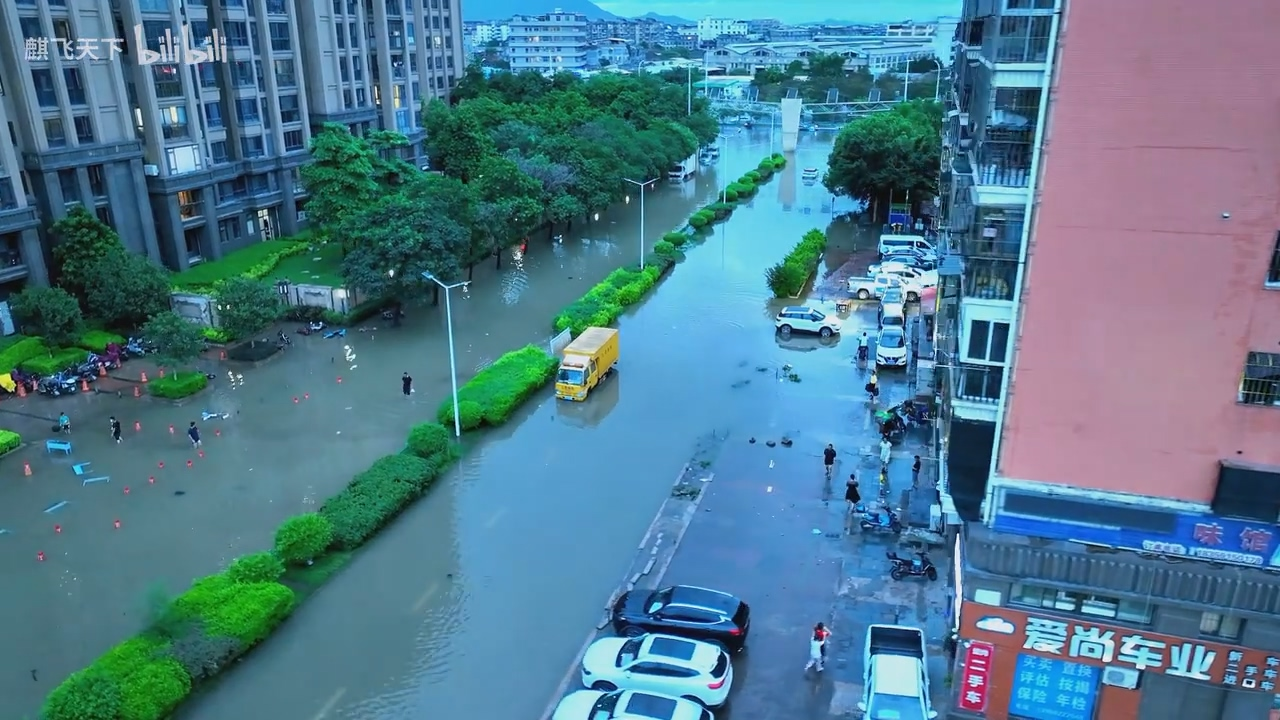puddle: (99, 327, 598, 720)
